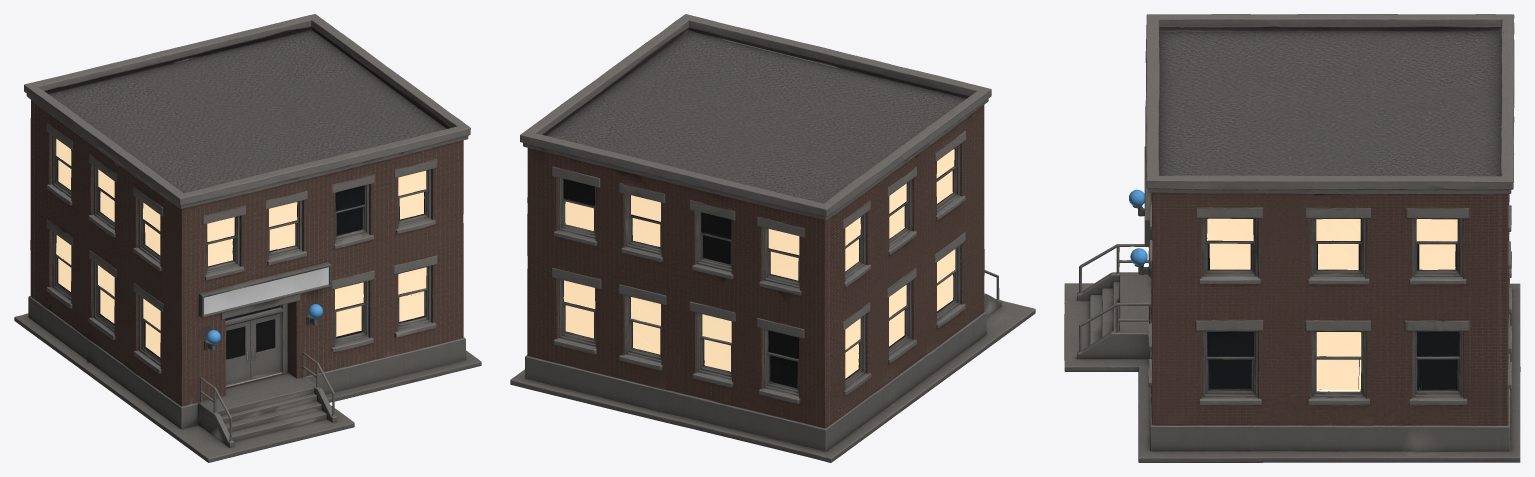
The model's file is civic-police-station.glb.
3 renders of one model, left to right at view 1: azimuth 30°, elevation 25°; view 2: azimuth 150°, elevation 25°; view 3: azimuth 270°, elevation 25°, orthographic. The views are drawn at different scales.
Size of the model in its own units: 12.09 by 9 by 13.33.
4 materials, 4 textured.
